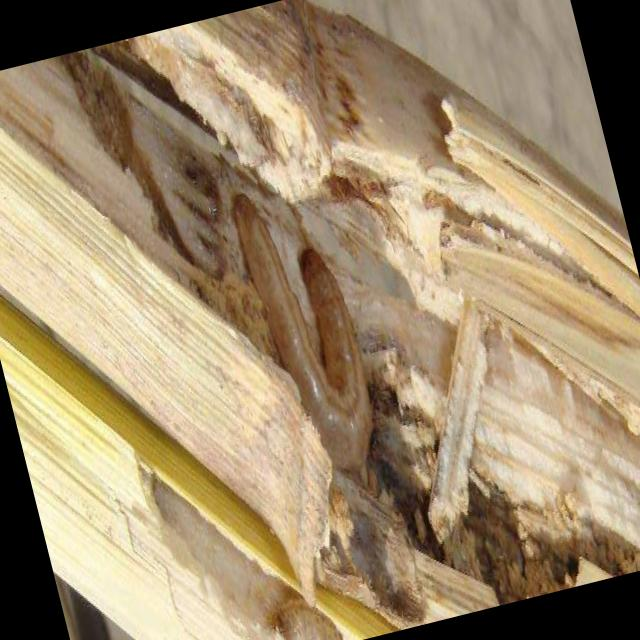pest: (229, 169, 388, 471)
